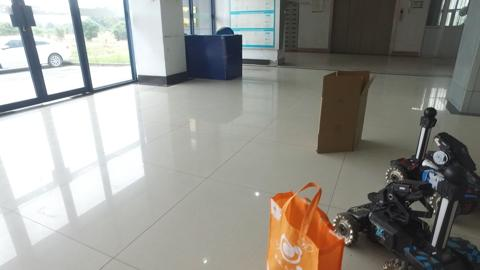bag: (268, 177, 344, 270)
box: (314, 68, 365, 151)
chariot: (333, 157, 478, 269), (380, 101, 478, 184)
